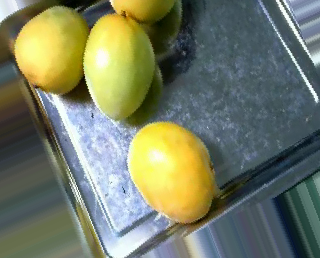Mango: (128, 122, 215, 221), (84, 13, 154, 117), (12, 6, 88, 96)
